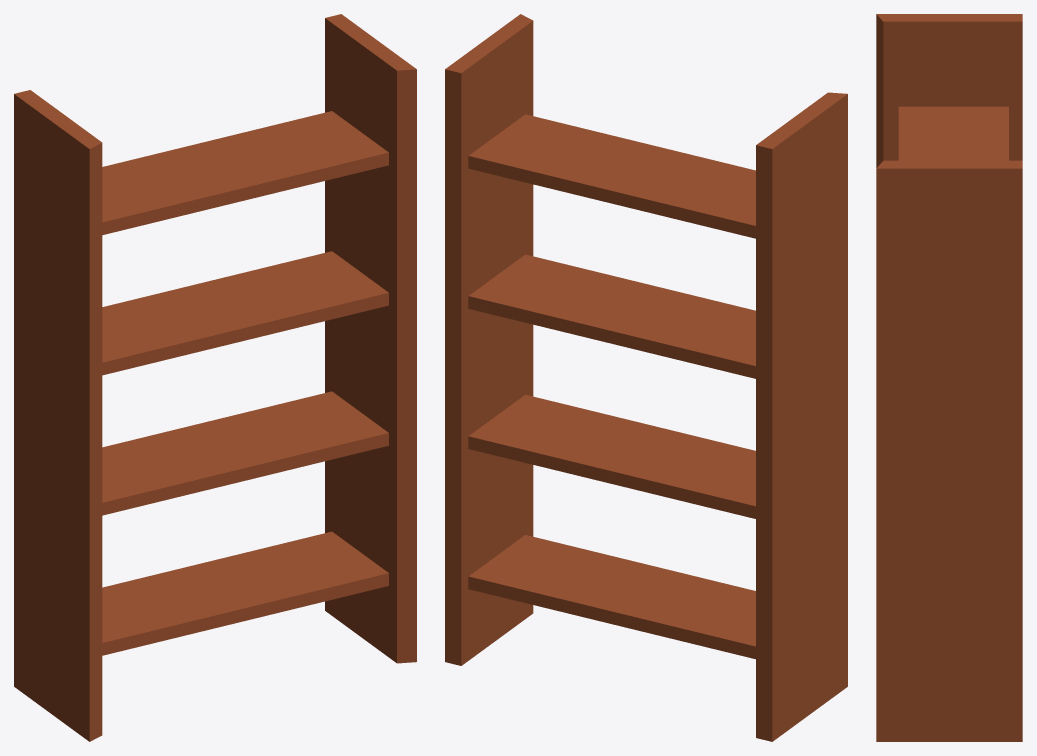
File: Prop_Fantasy_Book_Shelf_Timber_01.FBX
3 renders of one model, left to right at view 1: azimuth 30°, elevation 25°; view 2: azimuth 150°, elevation 25°; view 3: azimuth 270°, elevation 25°, orthographic. The views are drawn at different scales.
Visible parts, largest first — view 1: Prop_Fantasy_Book_Shelf_Timber_01; view 2: Prop_Fantasy_Book_Shelf_Timber_01; view 3: Prop_Fantasy_Book_Shelf_Timber_01.
Boxes of the visible parts, x1=… form: Prop_Fantasy_Book_Shelf_Timber_01: x1=14, y1=14, x2=416, y2=741; Prop_Fantasy_Book_Shelf_Timber_01: x1=445, y1=14, x2=847, y2=741; Prop_Fantasy_Book_Shelf_Timber_01: x1=876, y1=14, x2=1022, y2=741.
Bounding box in the file's own units: 1052 × 1820 × 421.
